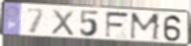5: (79, 10, 102, 39)
6: (162, 14, 184, 43)
7: (26, 7, 46, 34)
F: (104, 11, 132, 40)
M: (128, 12, 162, 42)
X: (50, 9, 76, 37)
